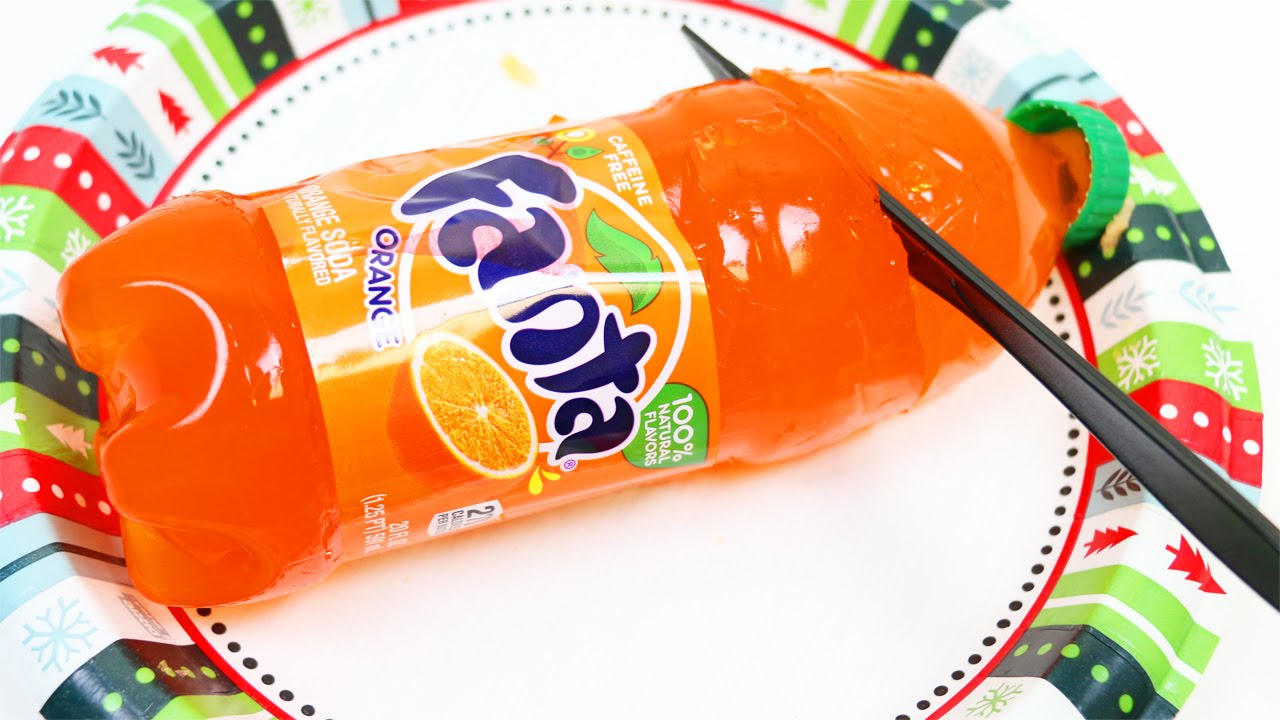Fanta: (66, 70, 1130, 545)
